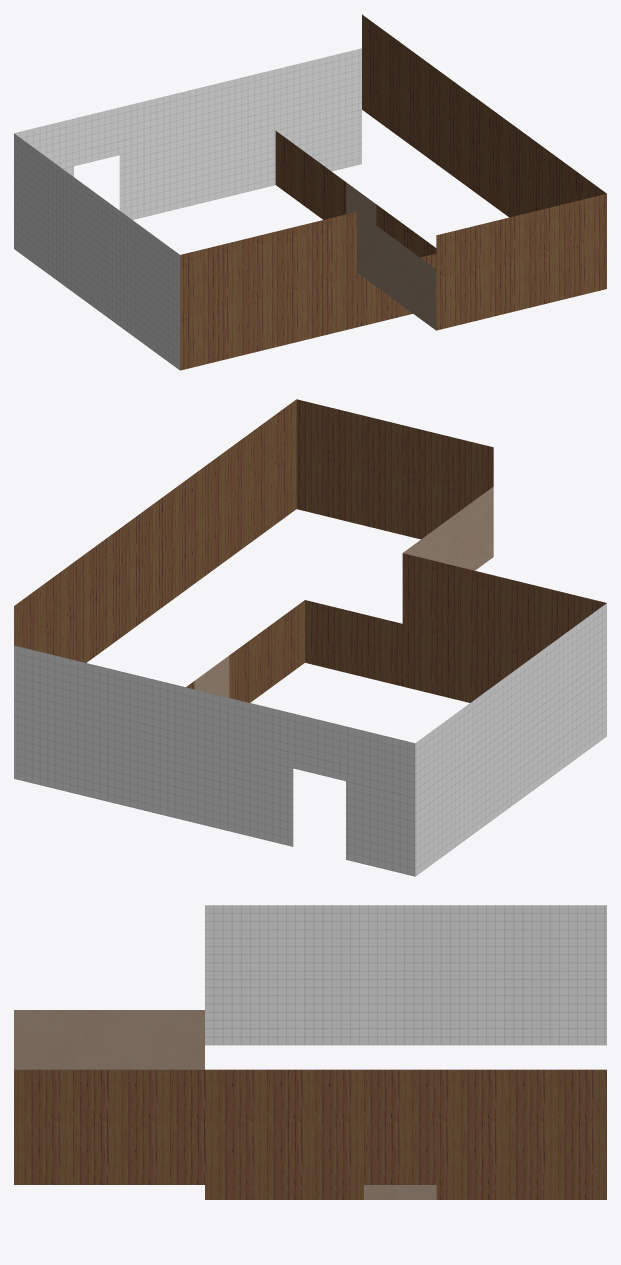
The model's file is Room_Walls.fbx.
3 views of the same model, one above another, from view 1: azimuth 30°, elevation 25°; view 2: azimuth 150°, elevation 25°; view 3: azimuth 270°, elevation 25° (orthographic). The views are drawn at different scales.
Visible parts, largest first — view 1: Room_Walls; view 2: Room_Walls; view 3: Room_Walls.
Boxes of the visible parts, x1,y1,x2,y2 form: Room_Walls: (14, 14, 606, 370); Room_Walls: (14, 399, 606, 876); Room_Walls: (14, 905, 606, 1199).
Bounding box in the file's own units: 5350 × 2200 × 6525.
